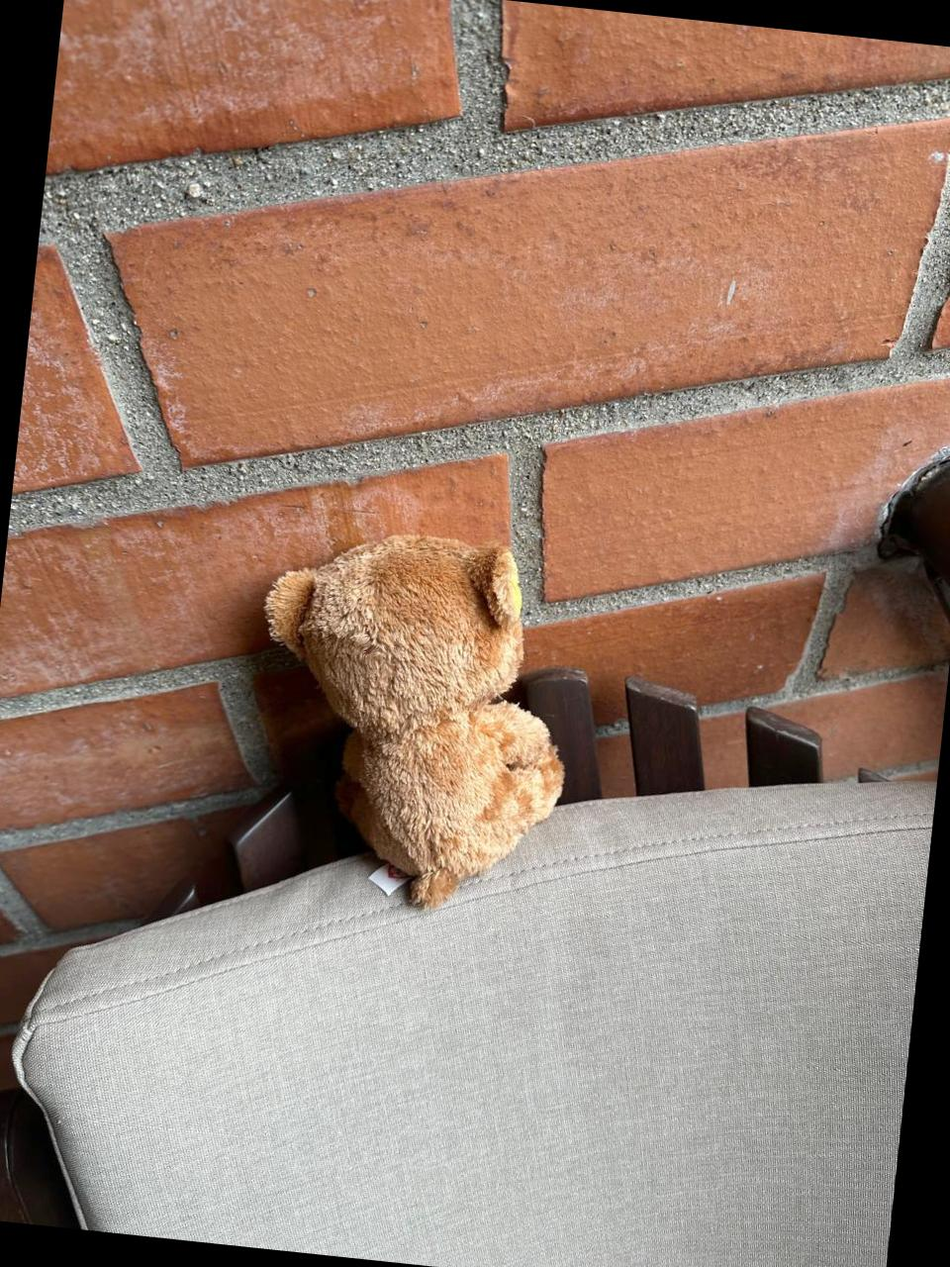peluche_sebastian: (230, 510, 594, 923)
